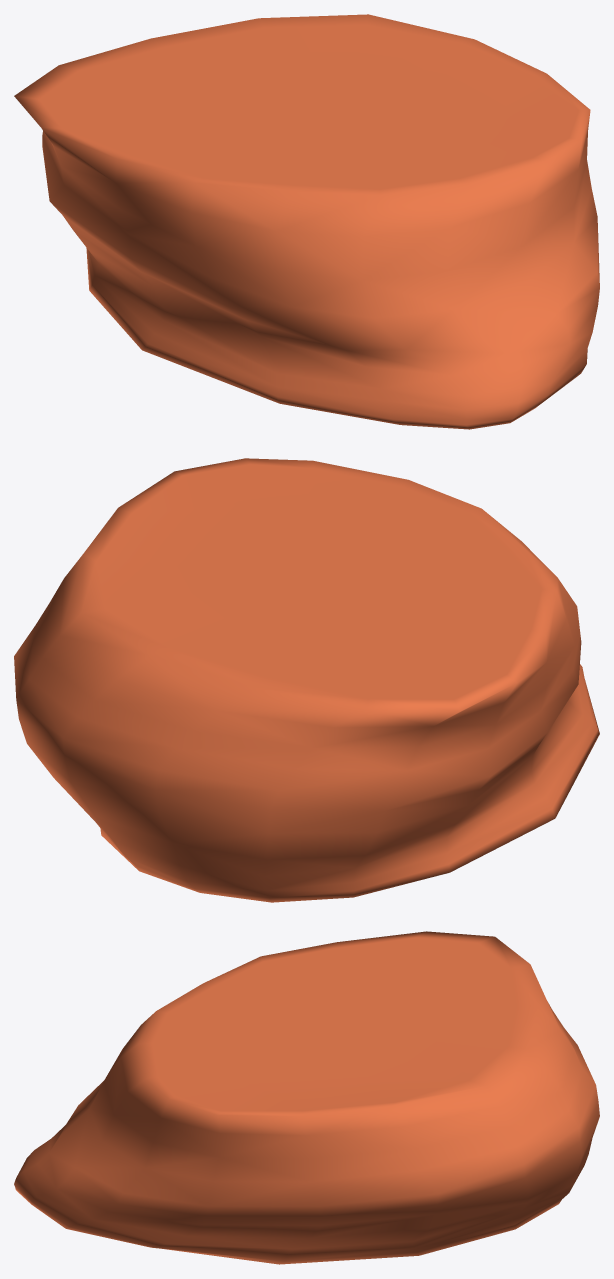
The model's file is OddStone.fbx.
3 views of the same model, one above another, from view 1: azimuth 30°, elevation 25°; view 2: azimuth 150°, elevation 25°; view 3: azimuth 270°, elevation 25° (orthographic). The views are drawn at different scales.
Visible parts, largest first — view 1: Weird.001; view 2: Weird.001; view 3: Weird.001.
Boxes of the visible parts, x1,y1,x2,y2 form: Weird.001: (14, 14, 599, 429); Weird.001: (14, 458, 599, 902); Weird.001: (14, 931, 599, 1264).
Bounding box in the file's own units: 7.45 × 2.25 × 5.84.
